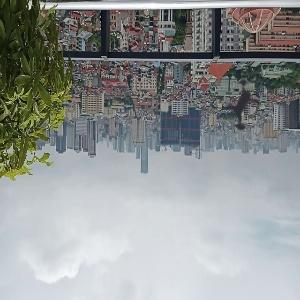drone: (200, 58, 291, 149)
